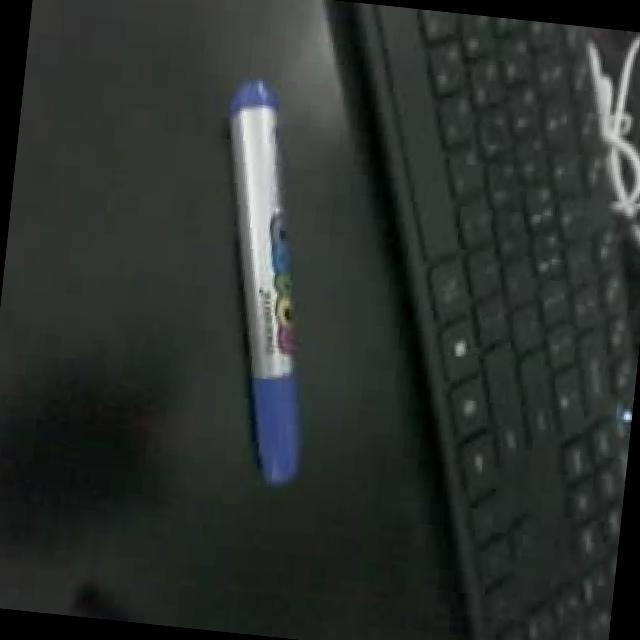board-marker: (228, 78, 300, 485)
